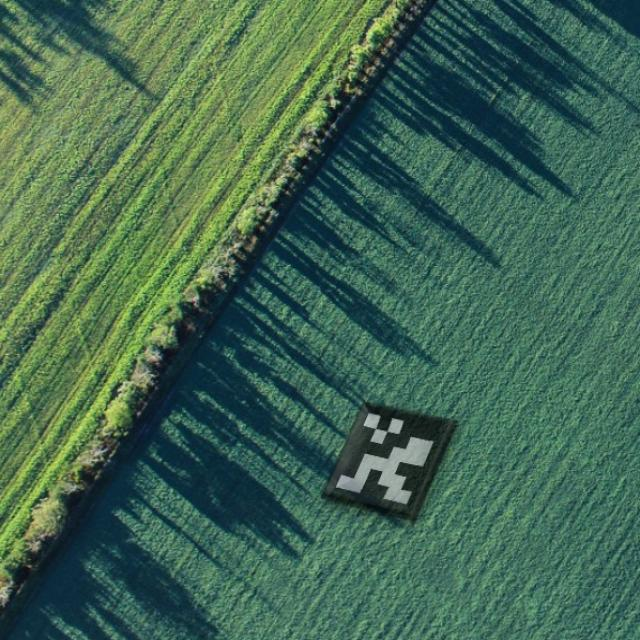marker: (316, 390, 465, 535)
